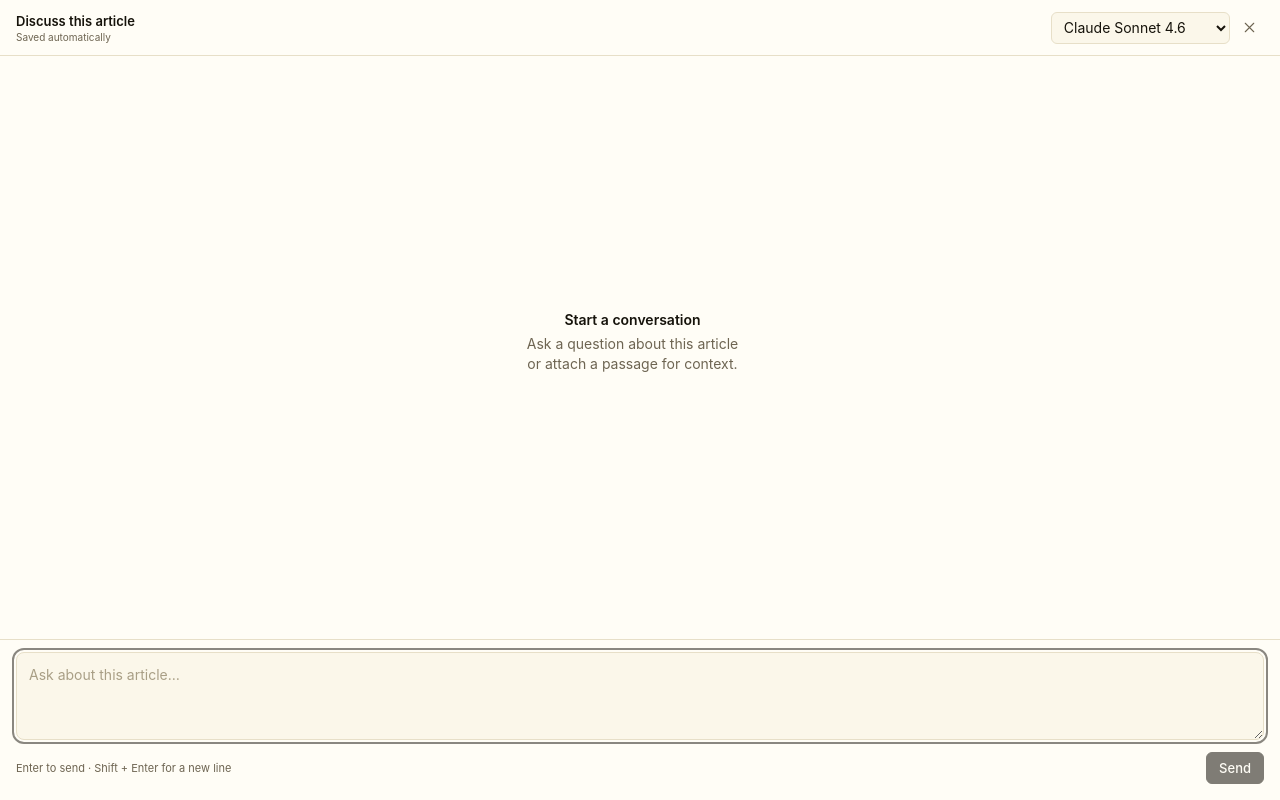
Test case: ChatPanel › surfaces llm_not_configured with a settings pointer
The width and height of the screenshot is (1280, 800).
Expected: the text "Start a conversation" is shown, [564,310,701,328]
Expected: the dropdown named "AI model" shows "Claude Sonnet 4.6", [1051,12,1230,44]
In the text box: (640, 696) [16,652,1264,740], type "hi"
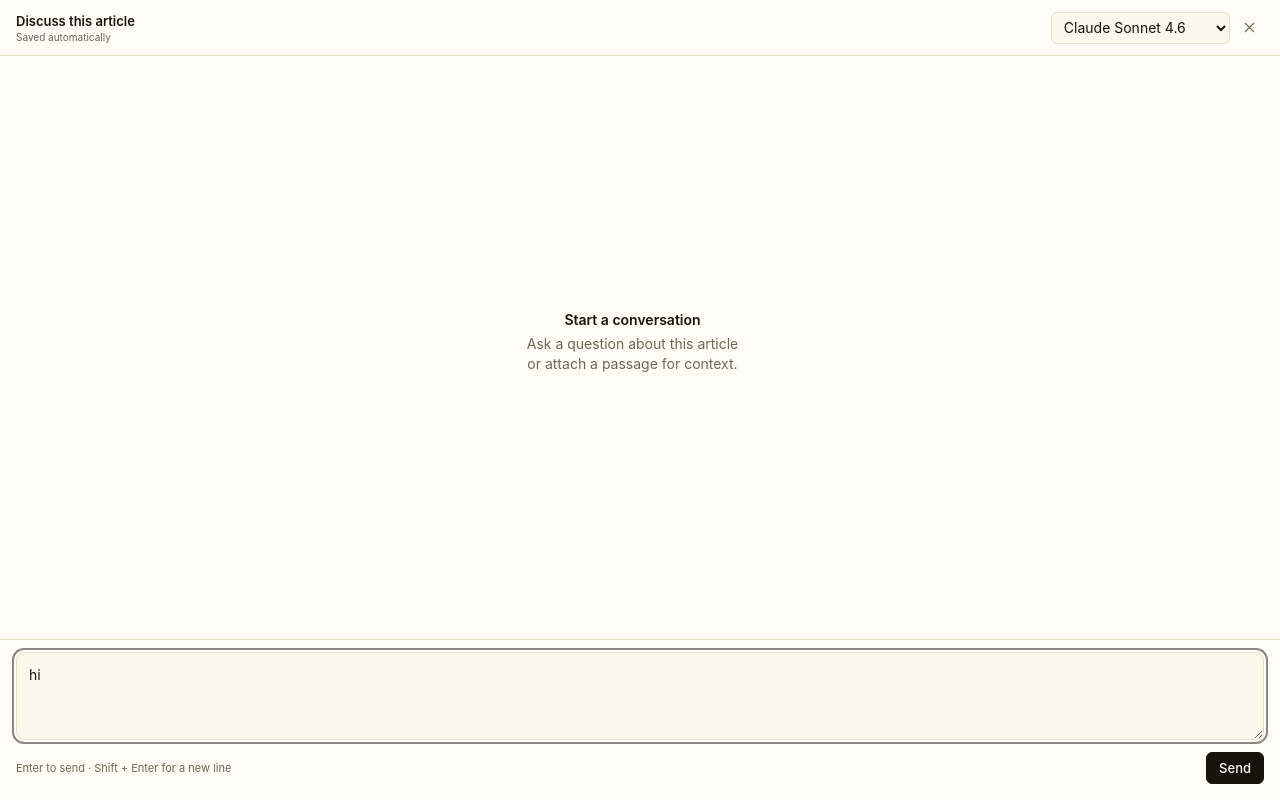
Click the button "Send": (1235, 768) [1206,752,1264,784]
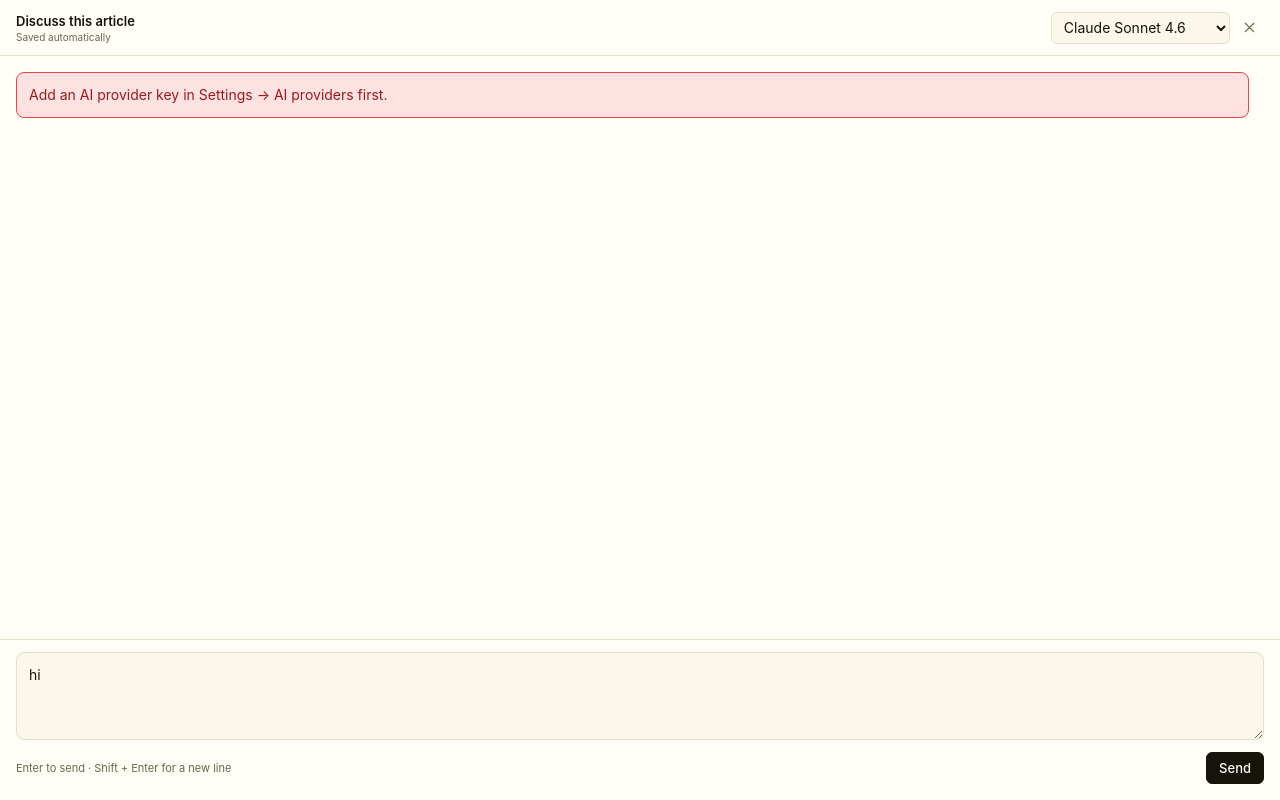
Result: the message shows "Settings → AI providers" at [29,86,388,103]
